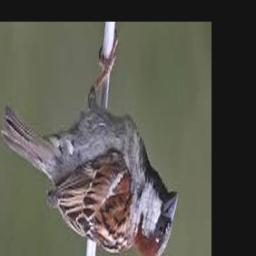Sparrow: (1, 34, 178, 256)
